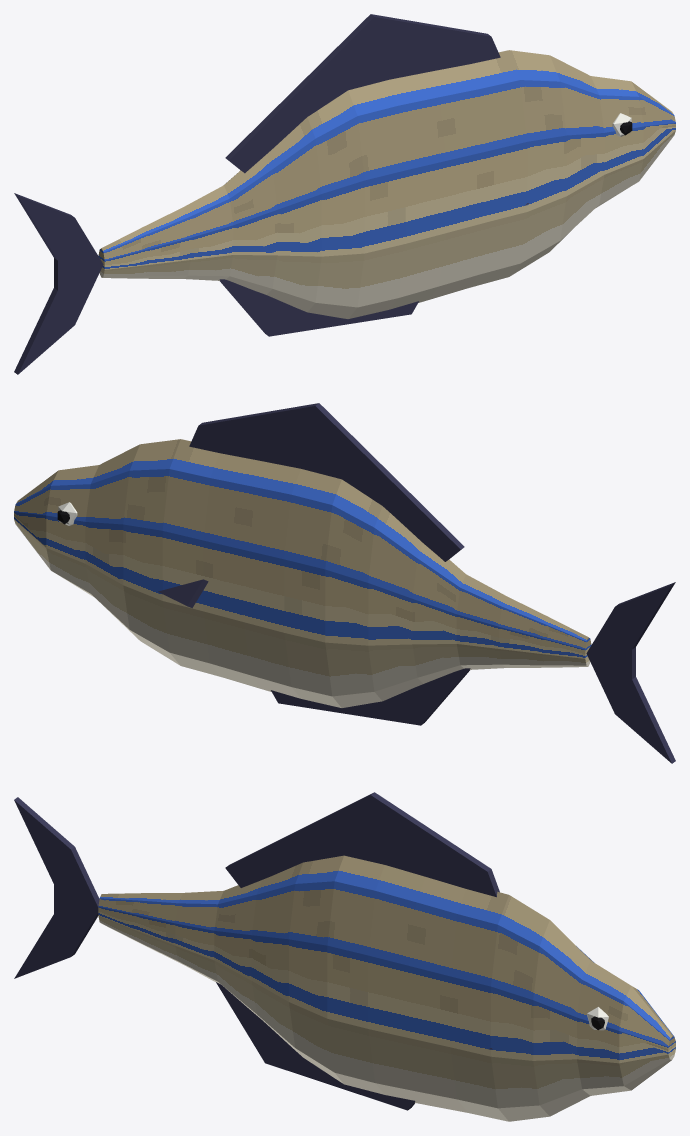
The model's file is triggerfish.glb.
3 renders of one model, top to bottom at view 1: azimuth 30°, elevation 25°; view 2: azimuth 150°, elevation 25°; view 3: azimuth 330°, elevation 25°, orthographic.
Parts seen in each view (by area): view 1: fish_triggerfish; view 2: fish_triggerfish; view 3: fish_triggerfish.
Boxes of the visible parts, bbox=[...] form: fish_triggerfish: bbox=[14, 14, 675, 374]; fish_triggerfish: bbox=[14, 403, 675, 763]; fish_triggerfish: bbox=[14, 792, 675, 1121].
Size of the model in its own units: 1.15 by 0.5132 by 0.1417.
Materials: 4 (1 with a texture image).
